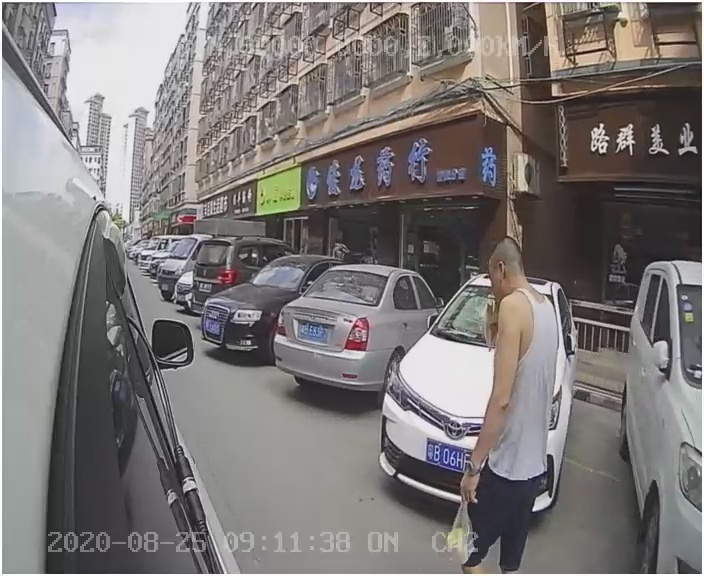person: (463, 243, 561, 561)
